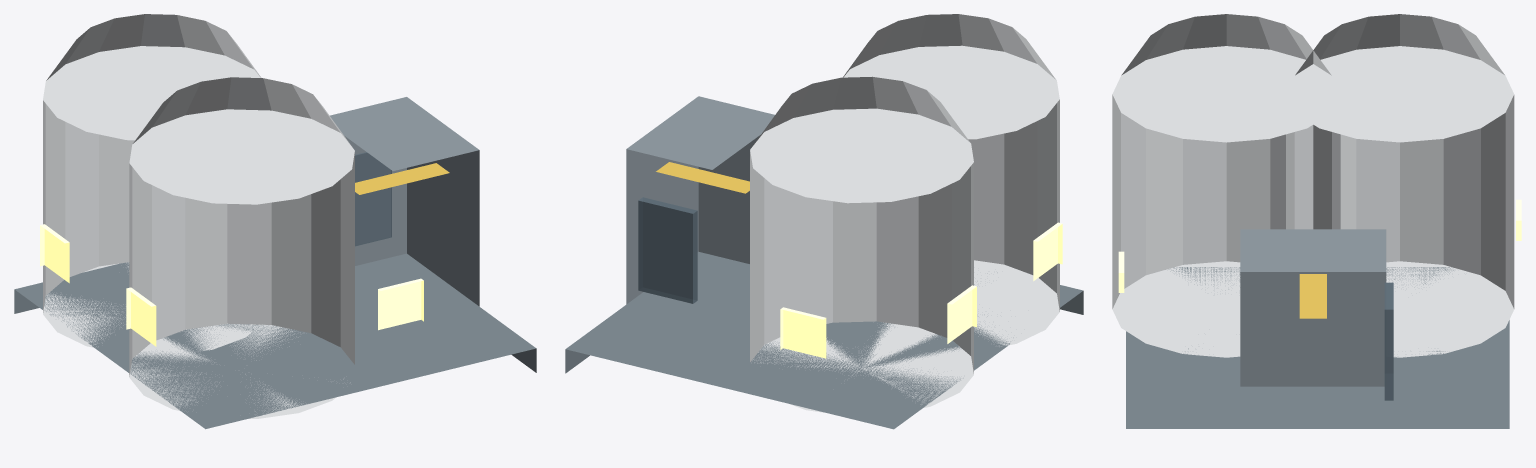
File: living.glb
The picture shows the model from 3 angles, left to right: view 1: azimuth 30°, elevation 25°; view 2: azimuth 150°, elevation 25°; view 3: azimuth 270°, elevation 25°; orthographic projection.
Visible parts, largest first — view 1: VH_Habitat; view 2: VH_Habitat; view 3: VH_Habitat.
Boxes of the visible parts, bbox=[...] form: VH_Habitat: bbox=[14, 14, 536, 429]; VH_Habitat: bbox=[565, 14, 1083, 429]; VH_Habitat: bbox=[1112, 14, 1521, 428].
Size of the model in its own units: 4.46 by 3.45 by 4.48.
